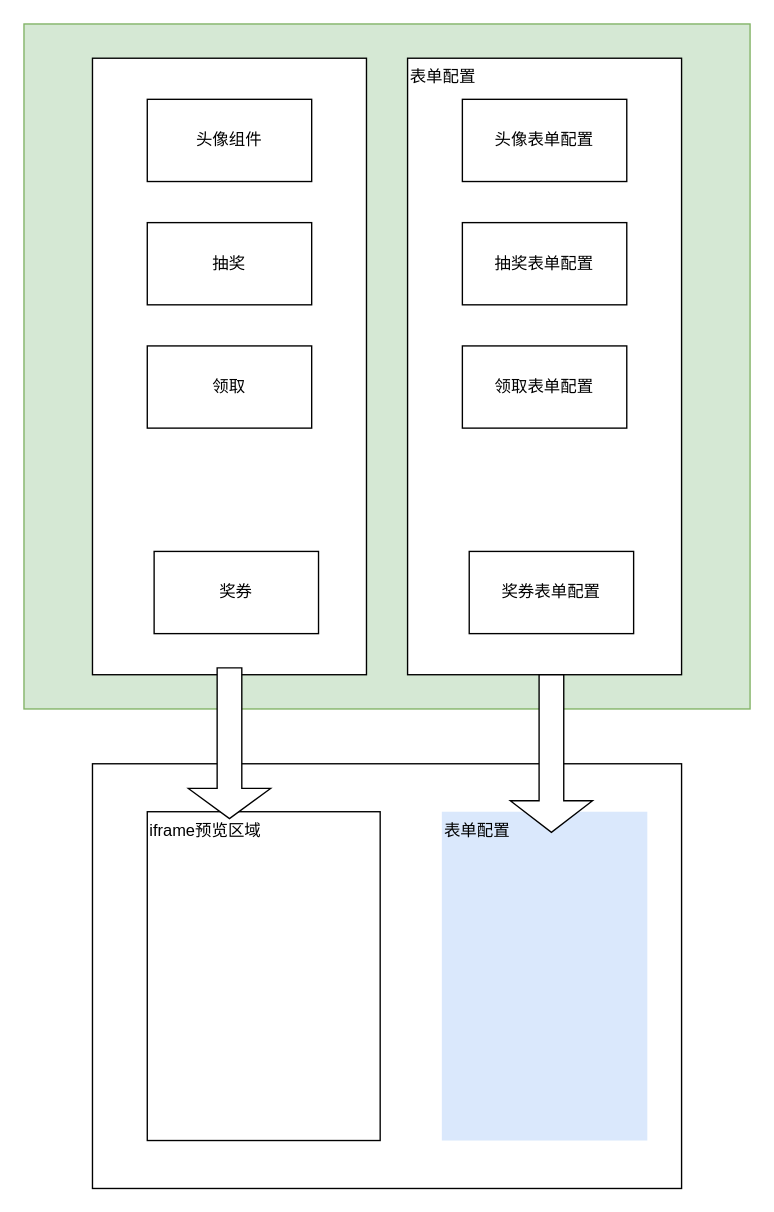
Image size: 774x1212. Some labels were removed from this diagram. Each missing label, with the box of its shape:
runtime: (23, 23, 750, 709)
组件: (91, 57, 366, 675)
编辑器: (91, 762, 682, 1188)
